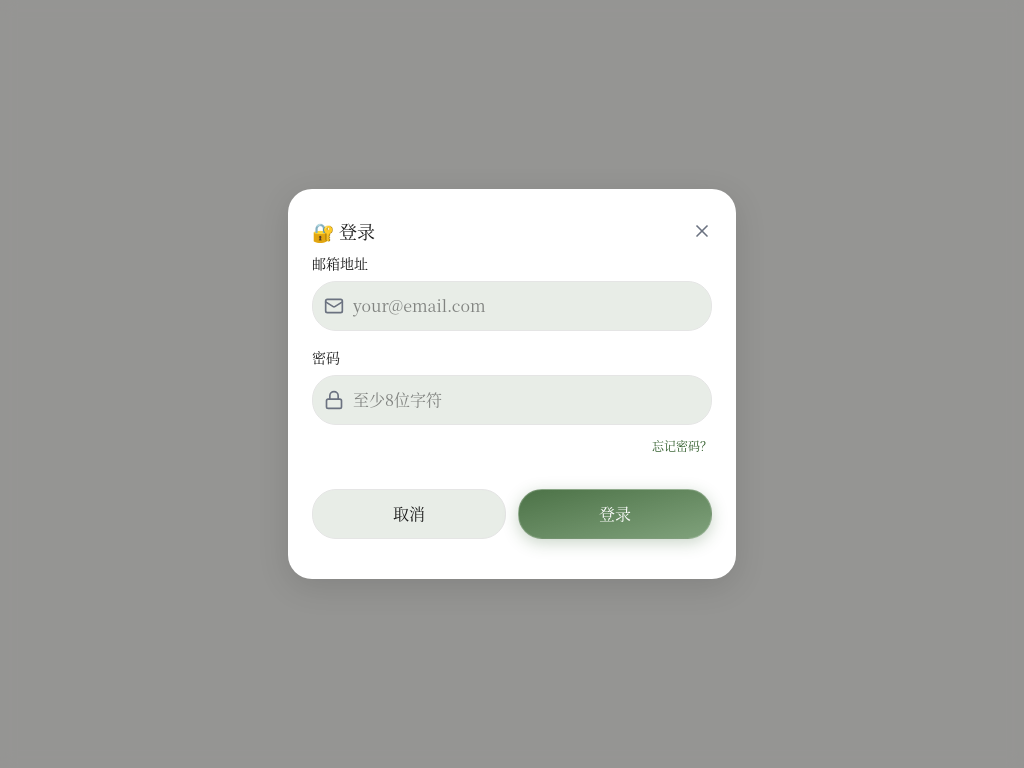
it: AuthModal — 登录提交 › 登录失败（Invalid login credentials）→ 显示翻译错误「邮箱或密码错误」
Type "wrong@test.com" into the field with placeholder "your@email.com" at (512, 306), box [312, 281, 712, 331]
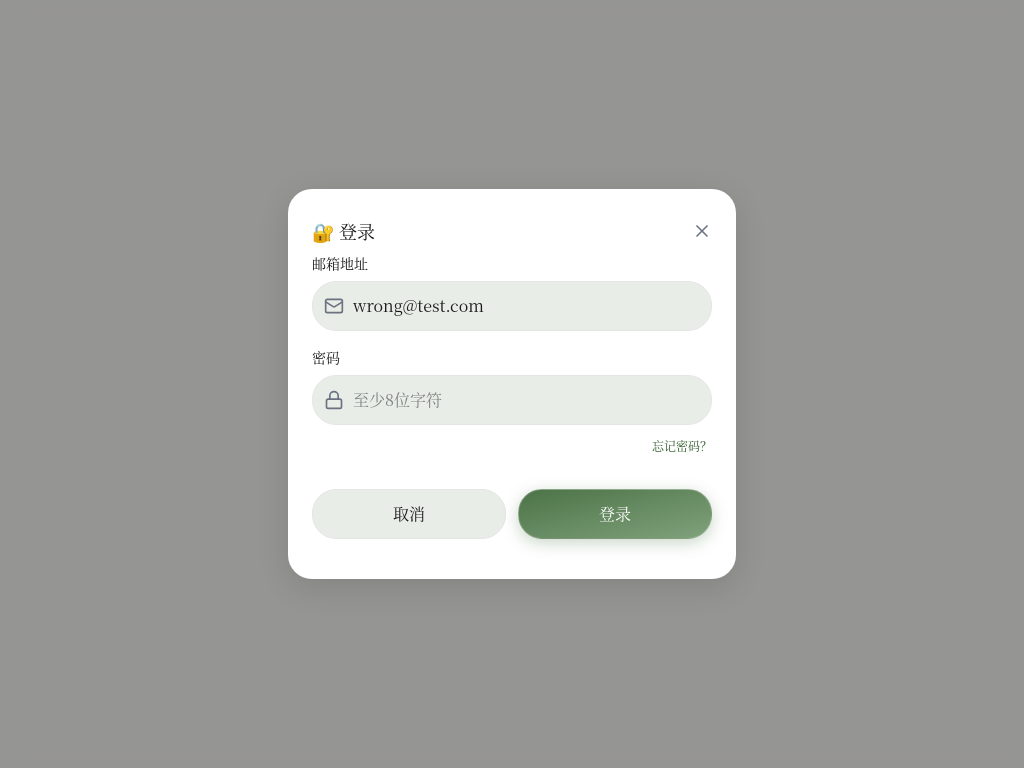
Type "WrongPass1" into the password field with placeholder "至少8位字符" at (512, 400), box [312, 375, 712, 425]
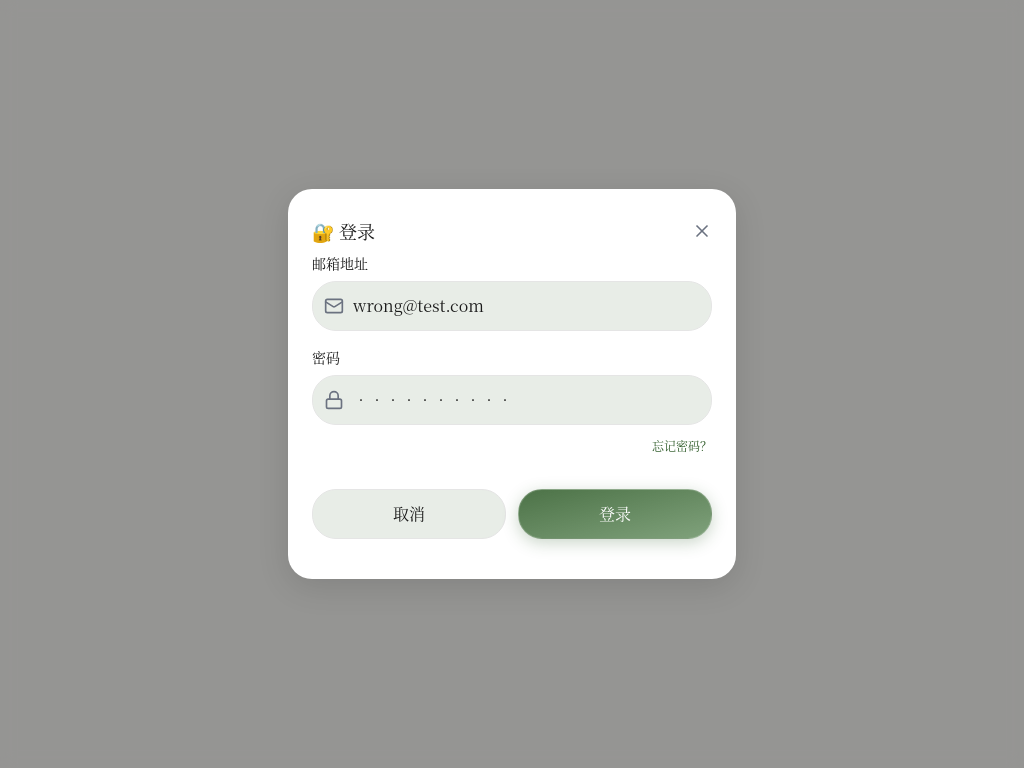
Click the button "登录" at (615, 514), box [518, 489, 712, 539]
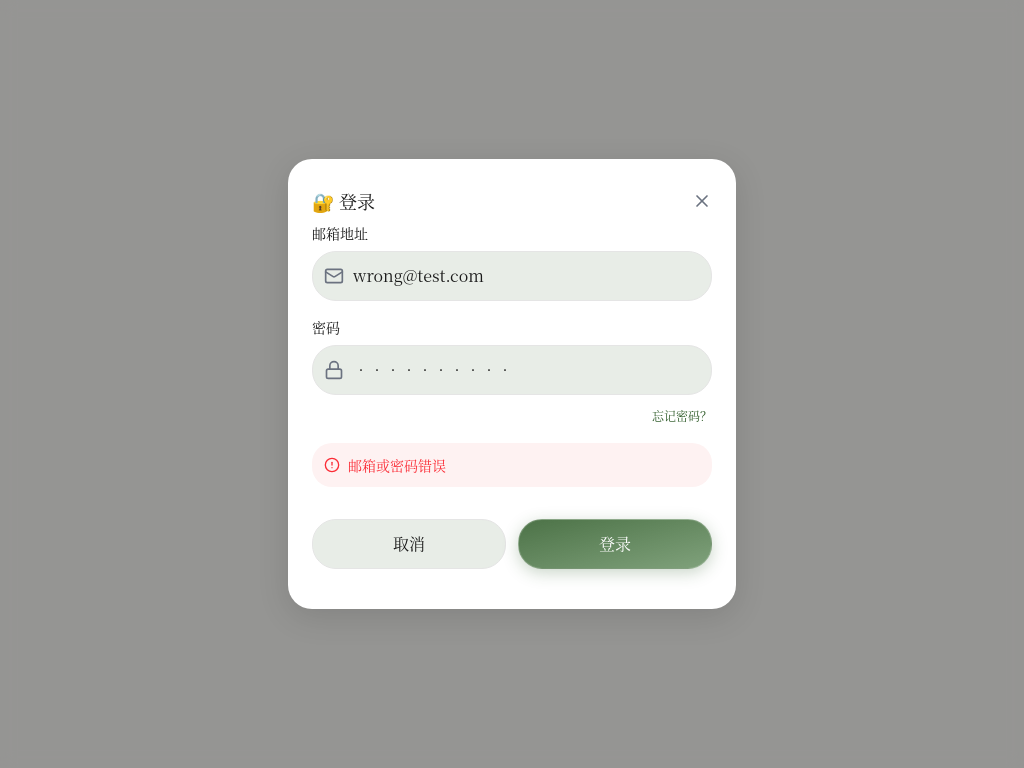
Check: the text "邮箱或密码错误" is shown, box [312, 443, 712, 487]
